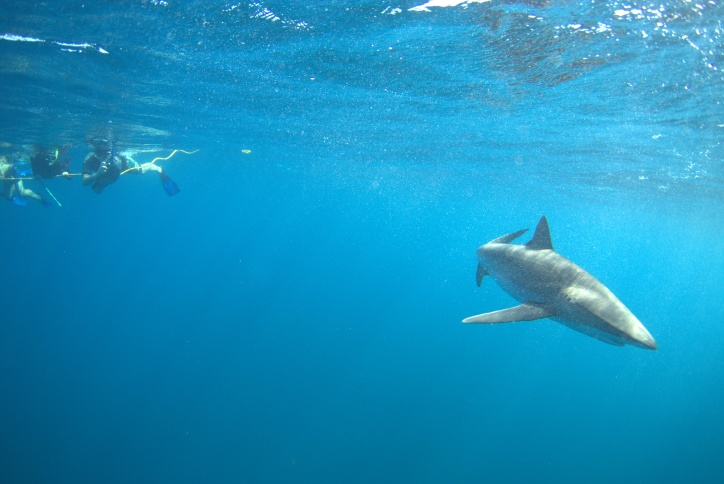Sedoso: (404, 207, 668, 355)
